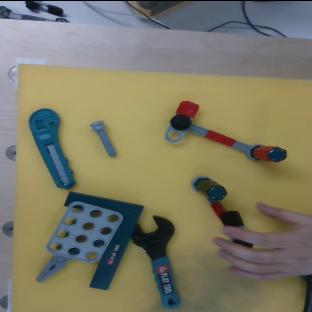non_pass: (190, 167, 249, 238), (230, 235, 253, 248)
pass: (163, 96, 290, 191)
